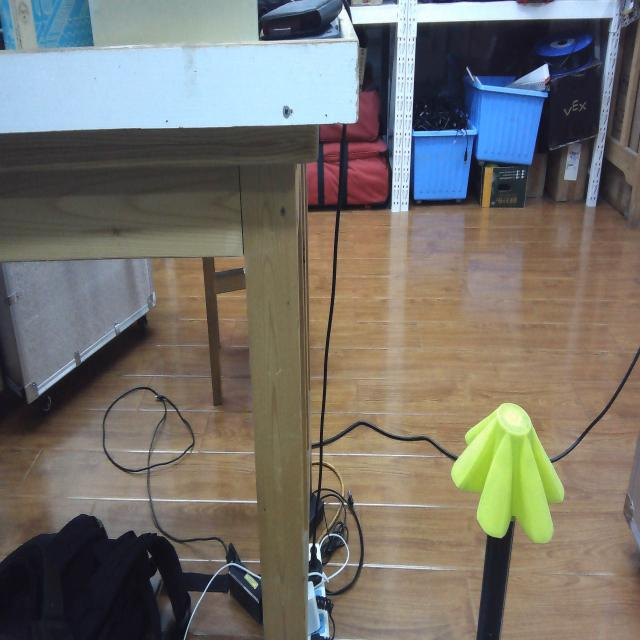Yellow-Stake-Head: (451, 402, 564, 544)
